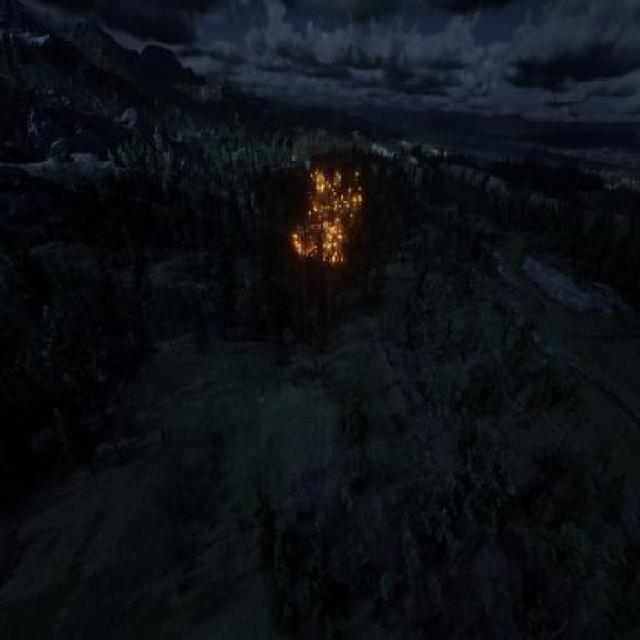Fire: (280, 152, 372, 279)
